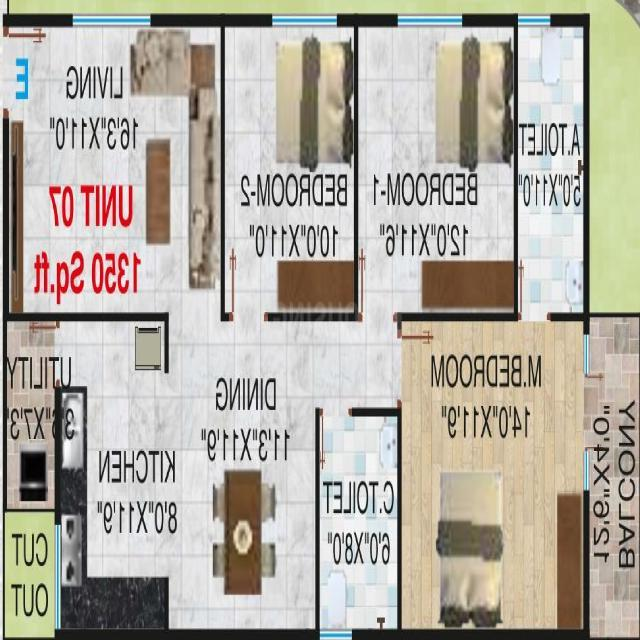Balcony-Sitout: (588, 309, 639, 640)
Bedroom: (355, 15, 520, 322), (225, 15, 354, 322)
Bedroom with Toilet: (315, 311, 589, 637)
Dining: (211, 464, 281, 607)
Kitchen: (60, 316, 169, 634)
Living: (7, 19, 224, 321)
Toilet: (513, 14, 591, 326), (312, 407, 397, 637)
Utility: (2, 317, 60, 518)
